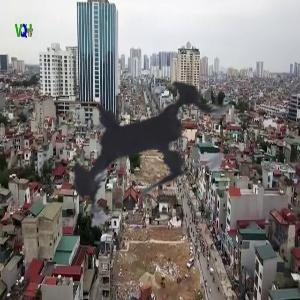drone: (9, 2, 287, 280)
